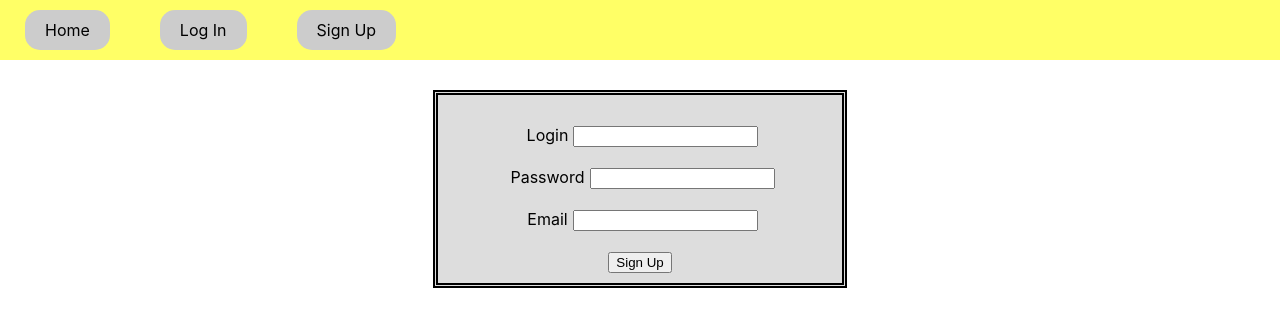
Test: cypress e2e without authorization › signup with not acceptable login
Type "login###" into the field with id "signup_form__login" at (666, 137), box [573, 126, 758, 147]
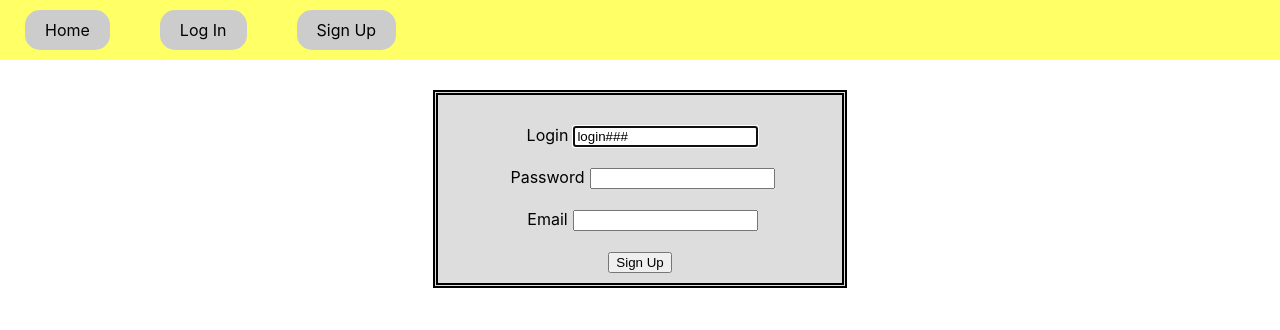
Type "Passw0rd" into the password field with id "signup_form__password" at (683, 179), box [590, 168, 775, 189]
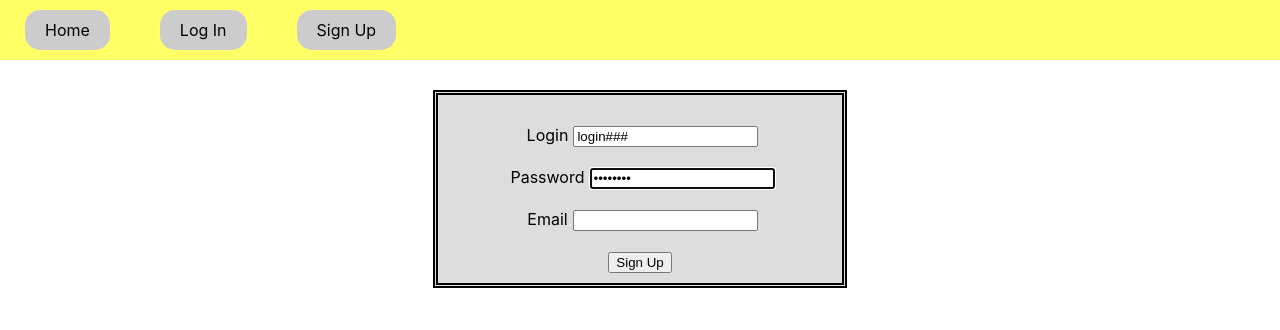
Type "aaa@bbb.ru" into the field with id "signup_form__email" at (666, 221), box [573, 210, 758, 231]
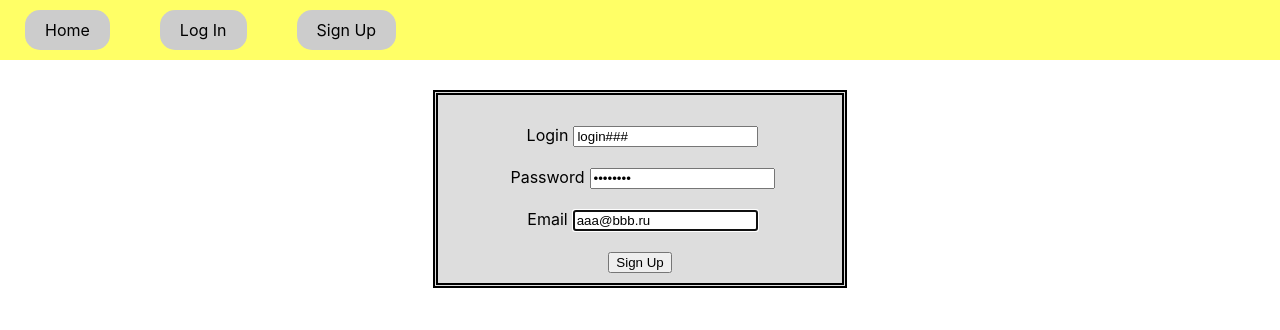
Click the button with id "signup_form__submit" at (640, 263), box [608, 252, 671, 273]
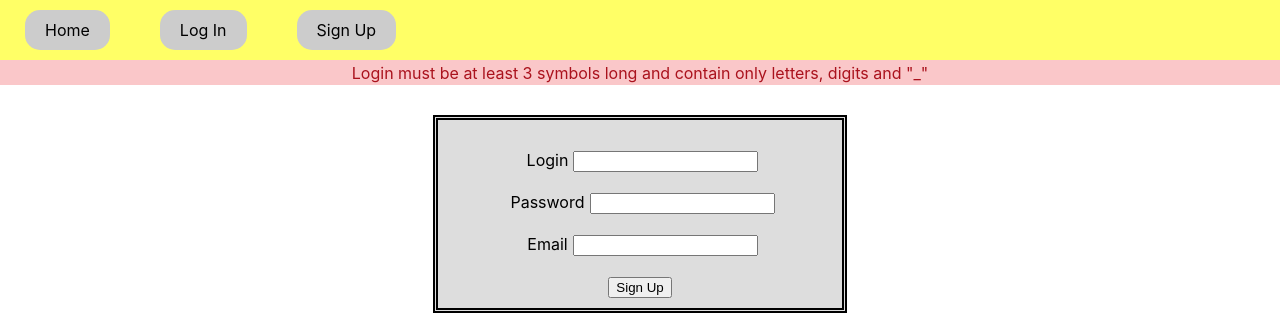
Check: the form with id "signup_form" is shown, box [433, 115, 847, 313]
Check: the text with id "error__message" reads "Login must be at least 3 symbols long and contain only letters, digits and \"_\"", box [352, 63, 928, 83]
